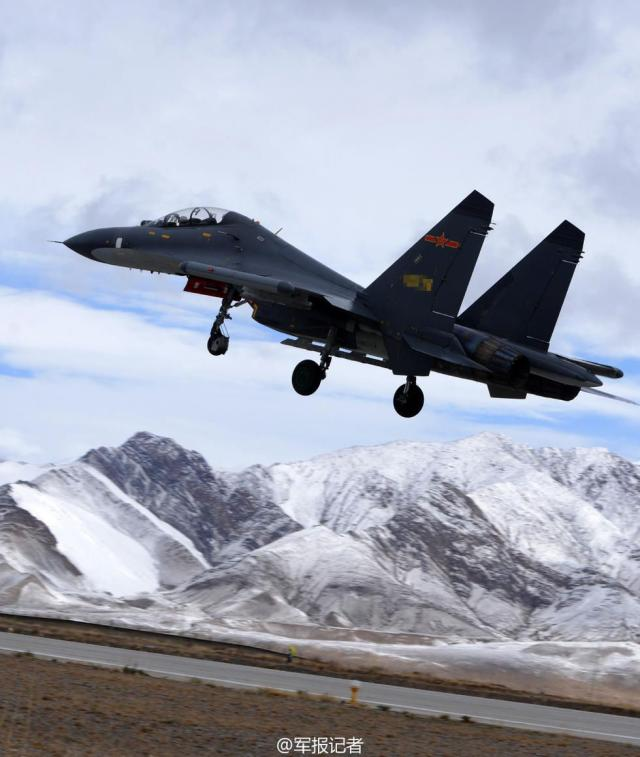airplane: (49, 185, 640, 416)
